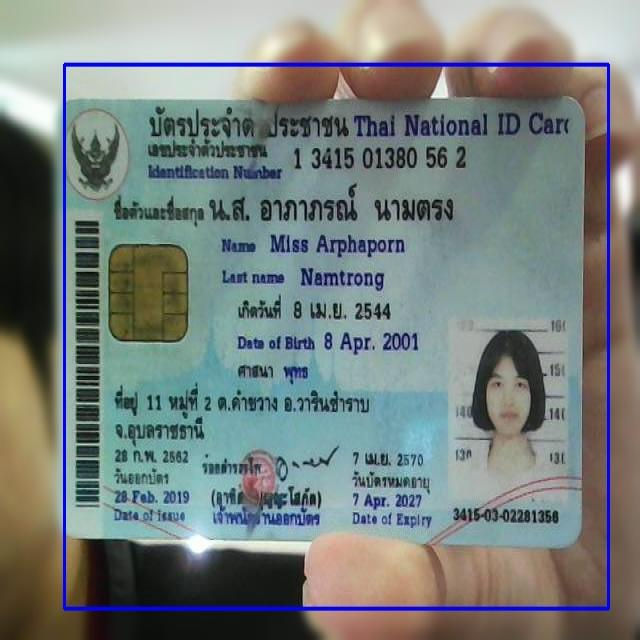Address_th: (101, 380, 376, 447)
Date_of_Birth: (320, 325, 423, 359)
Date_of_Expiry: (349, 487, 424, 512)
Date_of_Issue: (108, 487, 194, 508)
First_Name: (268, 228, 408, 260)
ID_Number: (292, 142, 474, 174)
Image: (454, 320, 569, 503)
Last_Name: (297, 263, 386, 293)
Thai_Name: (206, 179, 463, 229)
